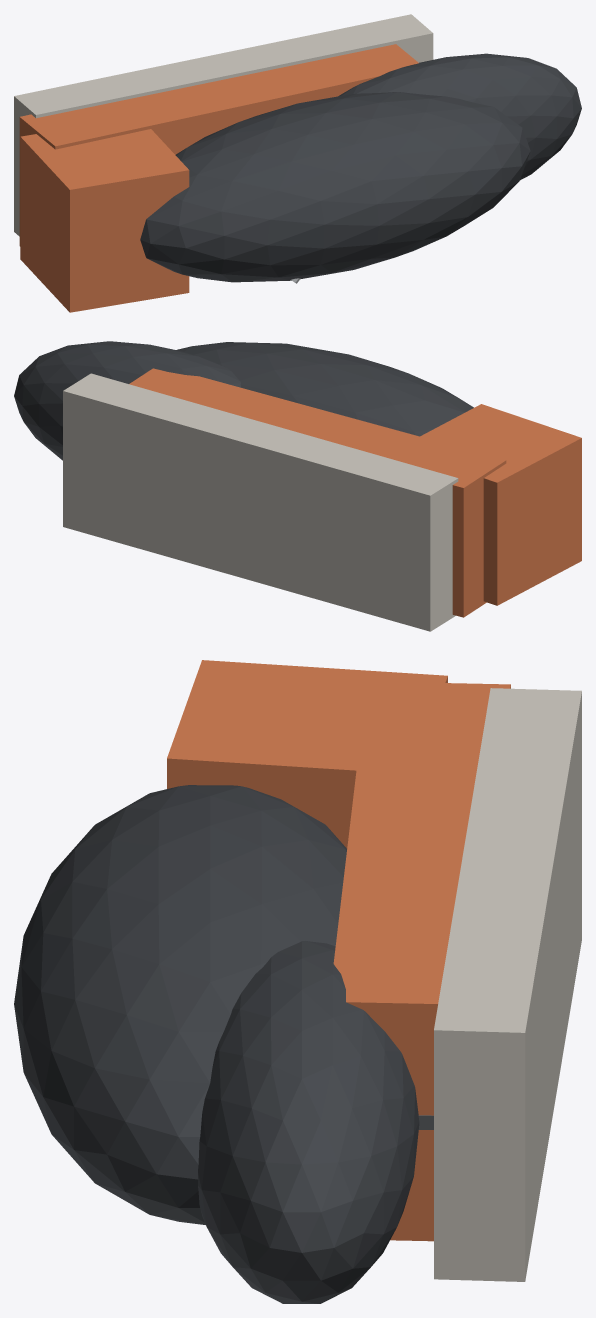
3 views of the same model, one above another, from view 1: azimuth 30°, elevation 25°; view 2: azimuth 150°, elevation 25°; view 3: azimuth 270°, elevation 25° (orthographic). The views are drawn at different scales.
Visible parts, largest first — view 1: geometry_0; view 2: geometry_0; view 3: geometry_0.
Boxes of the visible parts, x1=… form: geometry_0: x1=14, y1=14, x2=581, y2=312; geometry_0: x1=14, y1=341, x2=581, y2=631; geometry_0: x1=14, y1=660, x2=581, y2=1303.
Size of the model in its own units: 0.4341 by 0.114 by 0.217.
